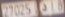2: (3, 5, 10, 17)
d: (41, 3, 48, 12)
